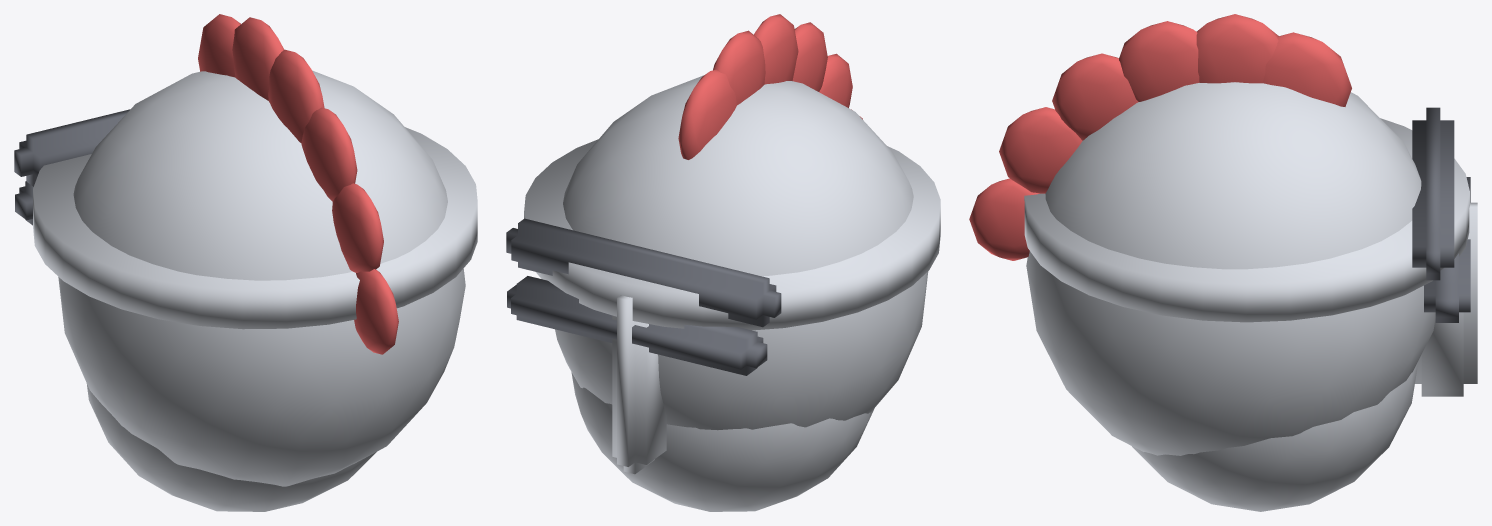
File: helmet.glb
3 views of the same model, side by side, from view 1: azimuth 30°, elevation 25°; view 2: azimuth 150°, elevation 25°; view 3: azimuth 270°, elevation 25° (orthographic). The views are drawn at different scales.
Visible parts, largest first — view 1: helmet; view 2: helmet; view 3: helmet.
Boxes of the visible parts, <box> form: helmet: <box>14,14,477,511</box>; helmet: <box>506,14,940,511</box>; helmet: <box>969,14,1477,511</box>.
Bounding box in the file's own units: 1.88 × 2.28 × 2.18.
